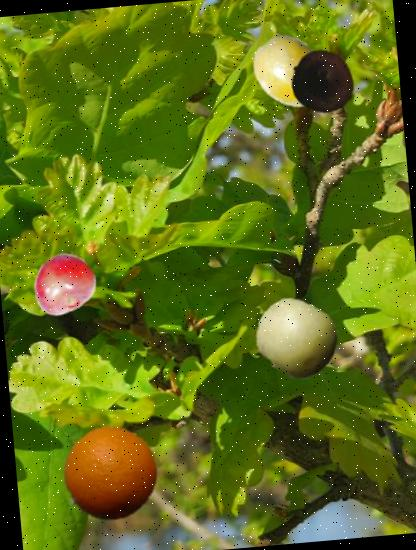Apple: (252, 294, 342, 383)
Cherry: (28, 250, 96, 318)
Maracuja: (247, 29, 334, 116)
Orange: (57, 422, 162, 528)
Pear: (288, 46, 360, 118)
